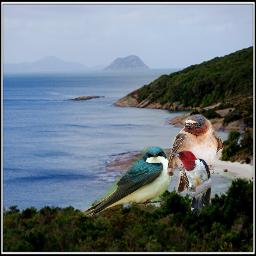Swallow: (82, 146, 172, 217), (167, 114, 223, 193)
Woodpecker: (169, 150, 211, 217)
